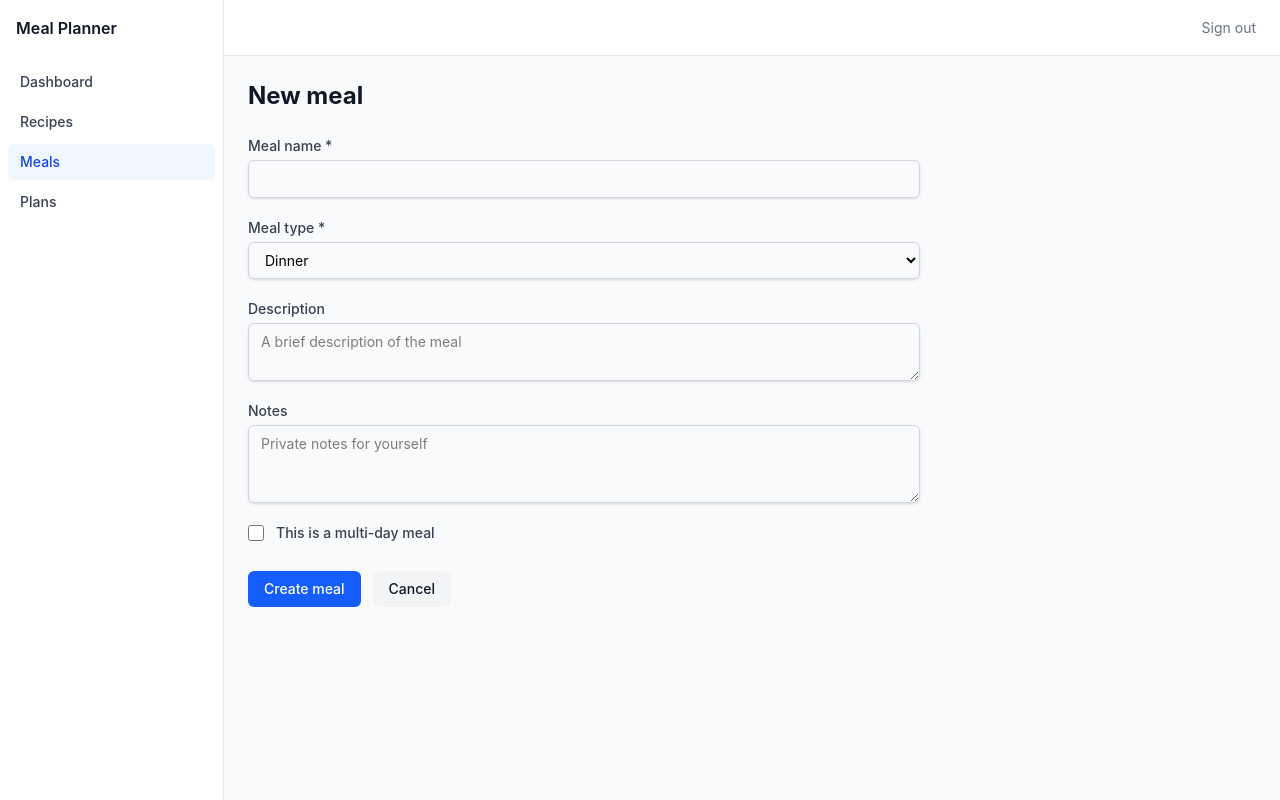
Test: MealFormPage (create) › shows validation error for missing name
expect the heading "New meal" is shown: met, box [248,80,363,112]
Click the button "Create meal" at (304, 589), box [248,571,361,607]
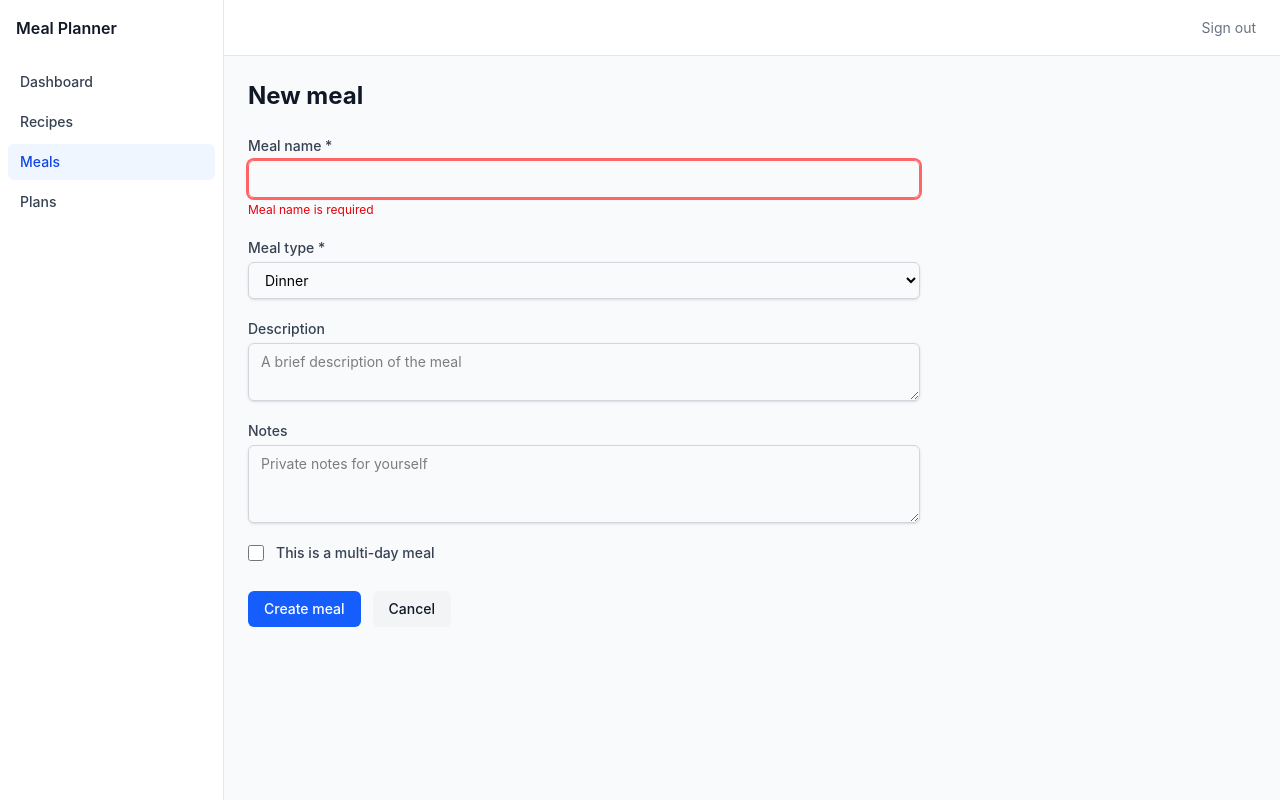
expect the text "Meal name is required" is shown: met, box [248,202,374,217]
